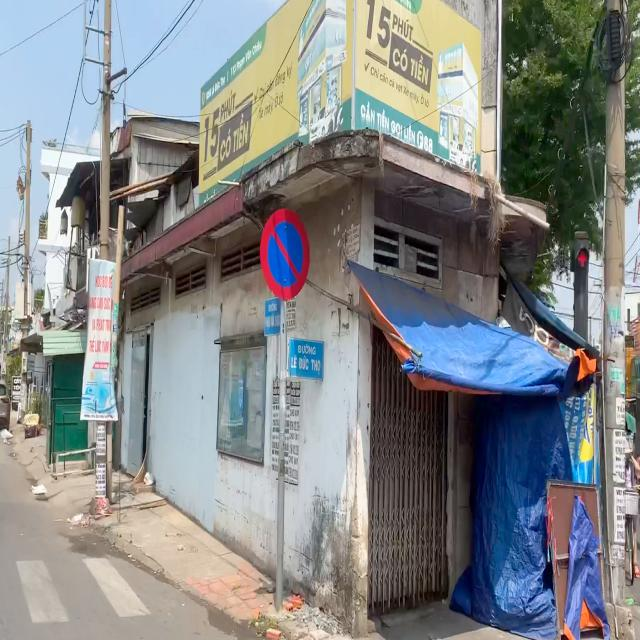Cam do: (256, 201, 308, 314)
